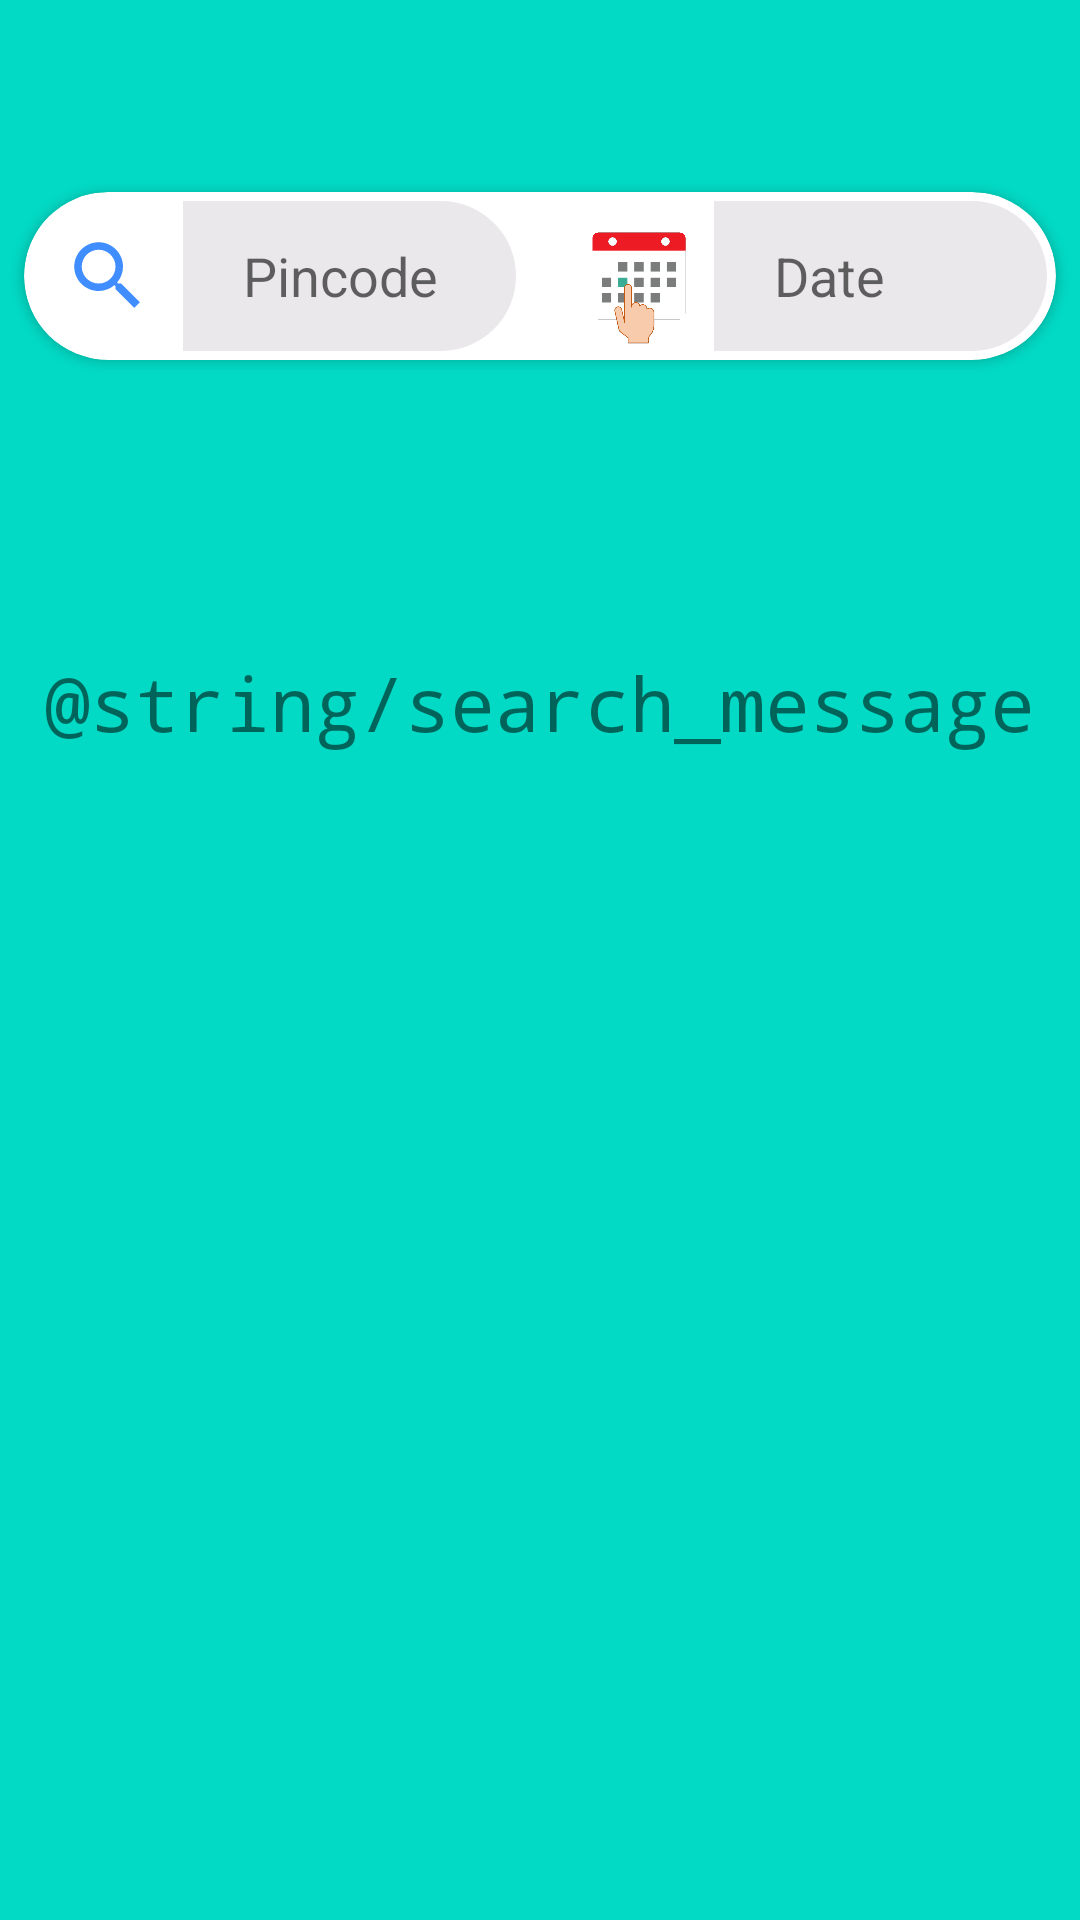

Icon click points for this 1080px x 1920px phone screenshot, format [x,y]:
search: [107,275]
